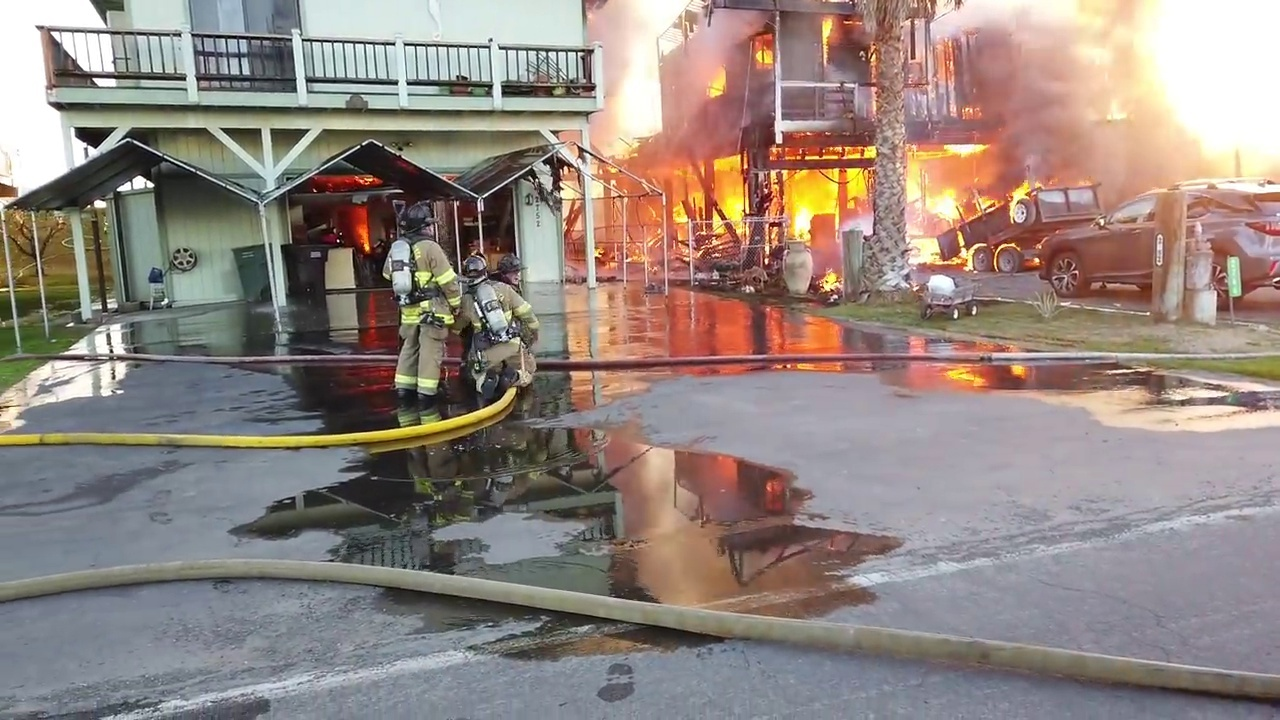fire: (660, 49, 753, 241), (578, 1, 685, 157), (904, 148, 966, 266), (771, 146, 873, 201), (956, 229, 1021, 282), (341, 204, 377, 257), (310, 172, 385, 192), (816, 9, 839, 62), (701, 63, 730, 105), (791, 200, 816, 239), (812, 267, 841, 298), (960, 102, 980, 116), (1030, 254, 1039, 267)
smoke: (958, 1, 1166, 193), (1166, 112, 1279, 186), (688, 4, 776, 46)
